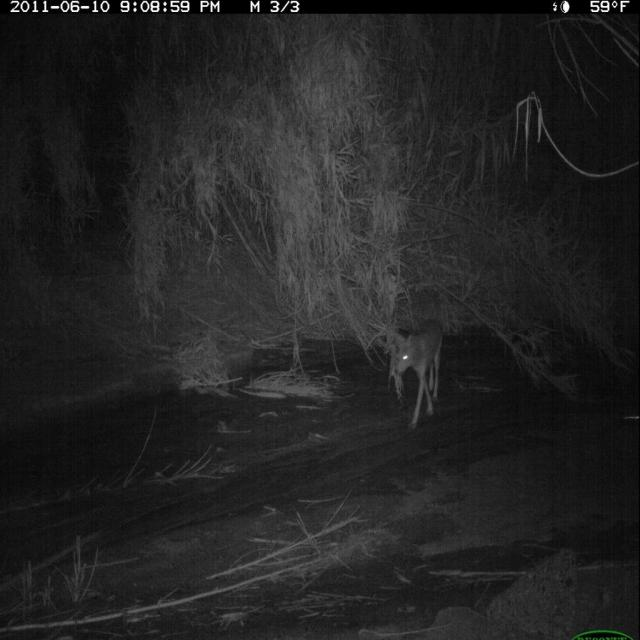coyote: (388, 317, 446, 434)
